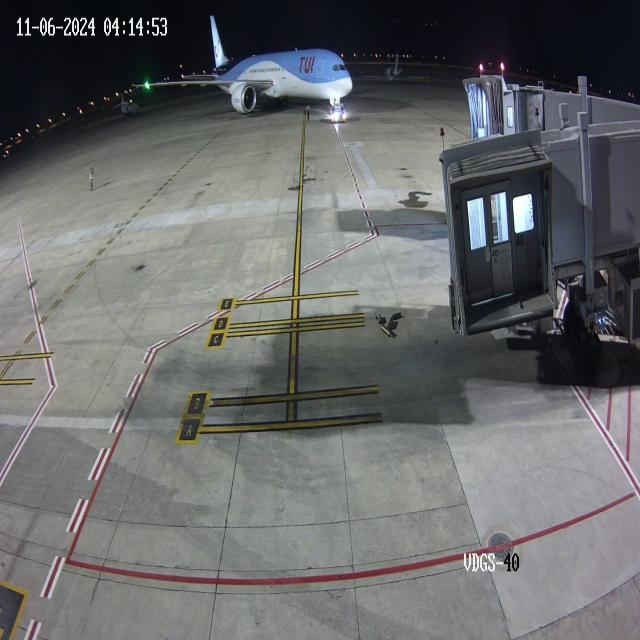bridge: (490, 71, 544, 141)
plane: (118, 1, 361, 124)
window: (329, 61, 349, 74)
